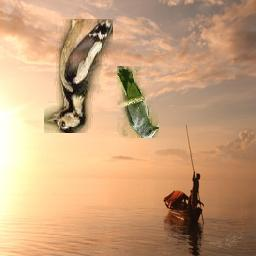Cuckoo: (117, 66, 159, 138)
Woodpecker: (45, 19, 114, 133)
